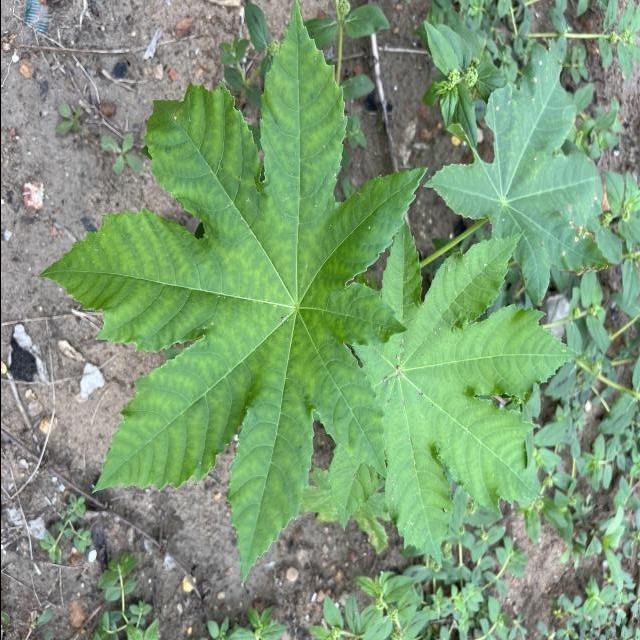Ricinus communis linn: (33, 0, 433, 591), (324, 213, 588, 571)
